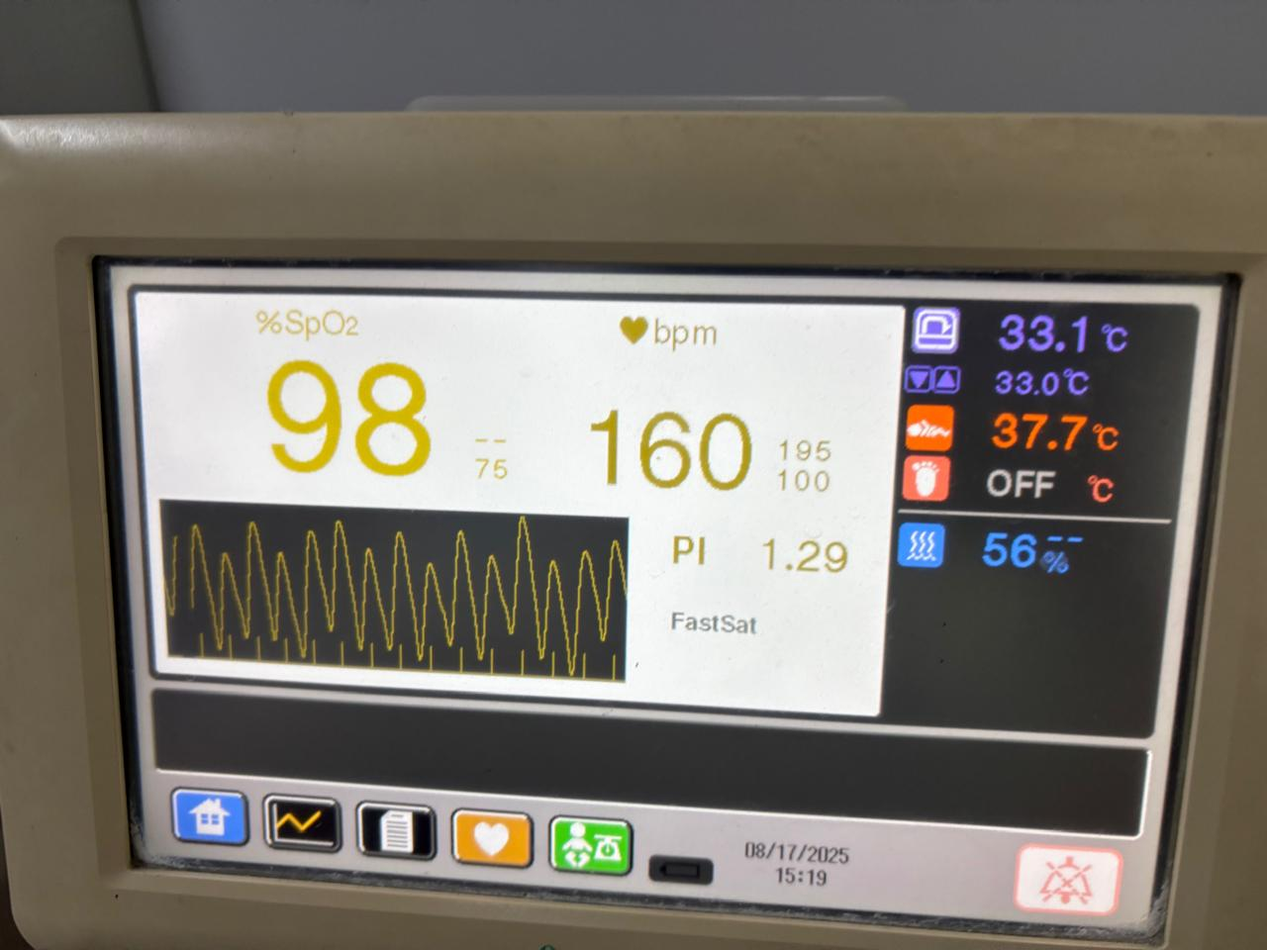air_temp_value: (971, 294, 1111, 370)
heart_rate_value: (573, 385, 765, 493)
humidity_value: (968, 519, 1044, 577)
skin_temp_value: (986, 400, 1100, 461)
spo2_value: (257, 340, 445, 490)
